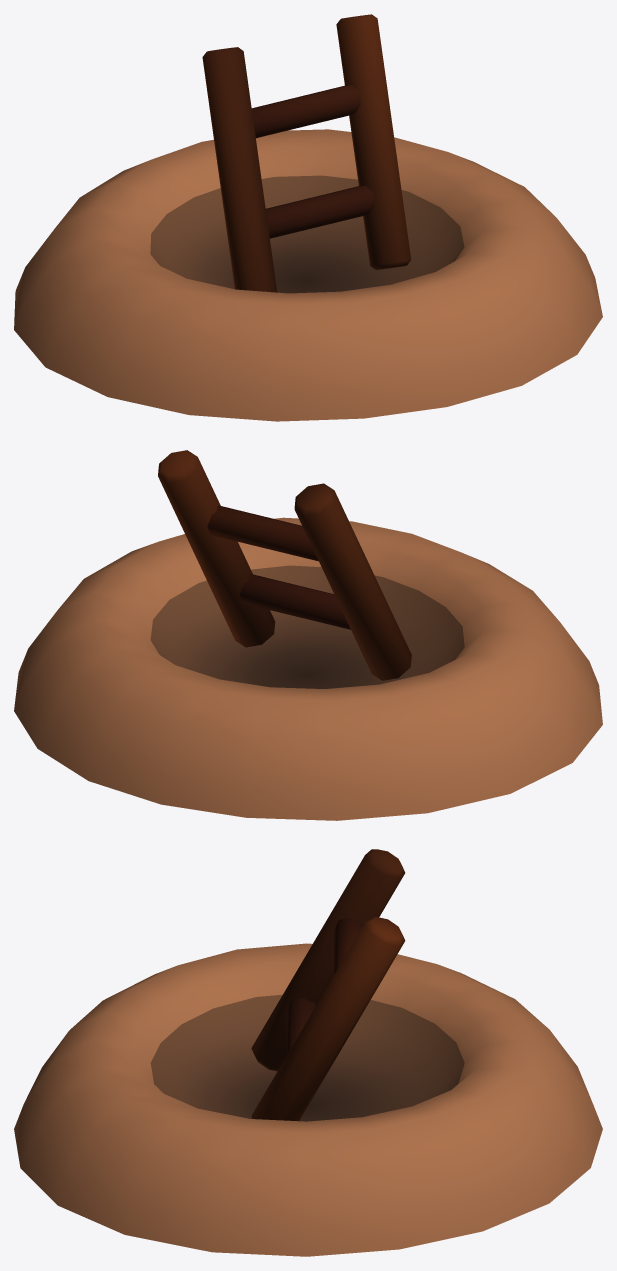
The model's file is ladder_shaft.glb.
The picture shows the model from 3 angles, top to bottom: view 1: azimuth 30°, elevation 25°; view 2: azimuth 150°, elevation 25°; view 3: azimuth 270°, elevation 25°; orthographic projection. The views are drawn at different scales.
Visible parts, largest first — view 1: ladder_shaft; view 2: ladder_shaft; view 3: ladder_shaft.
Part boxes in pixels (x1=…): ladder_shaft: x1=14, y1=14, x2=602, y2=421; ladder_shaft: x1=14, y1=450, x2=602, y2=820; ladder_shaft: x1=14, y1=849, x2=602, y2=1256.
Bounding box in the file's own units: 2.45 × 1.11 × 2.35.
